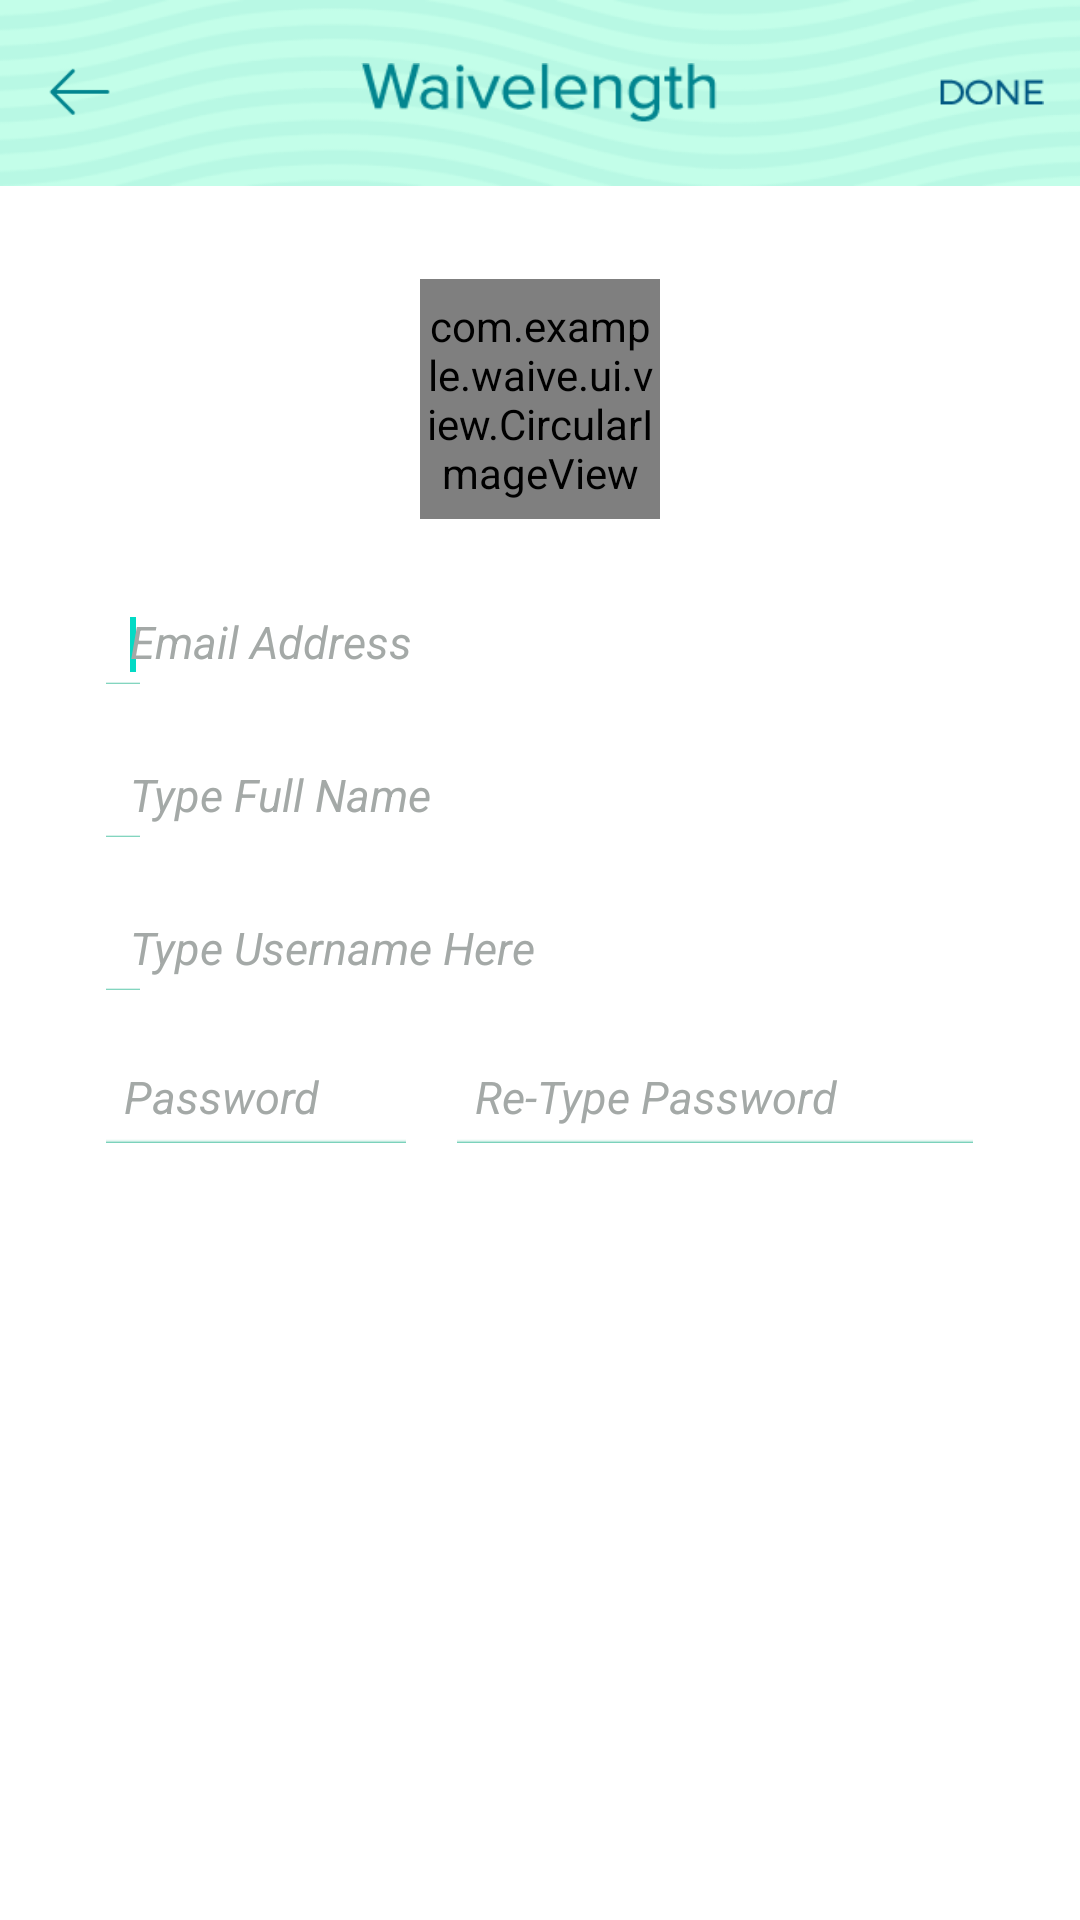

Screen size 1080 x 1920. Icon name, then its box in pixels as (x1, y1, x2, y2):
lft arrow: (50, 69, 110, 115)
